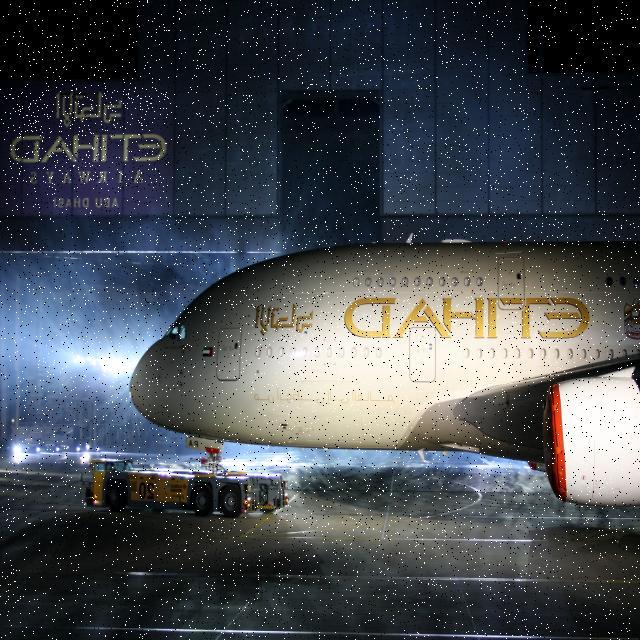Etihad Airways: (251, 293, 592, 342), (8, 88, 168, 189)
